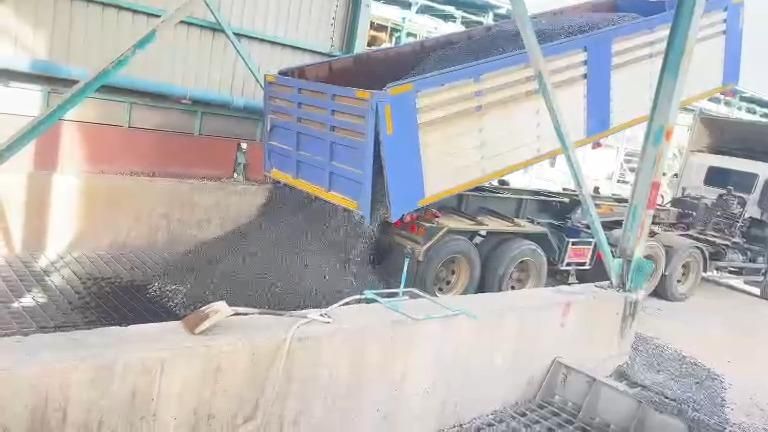gravel: (149, 181, 398, 314), (404, 20, 524, 77), (533, 13, 641, 44), (377, 170, 379, 178)
